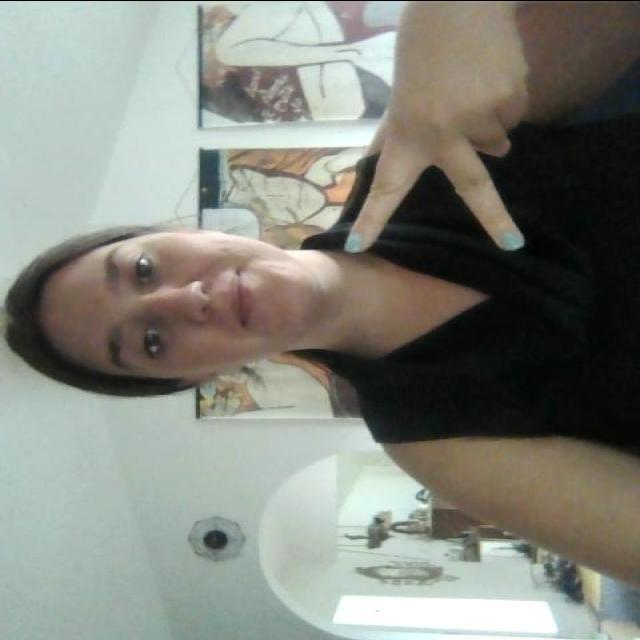Scissors: (340, 3, 552, 269)
